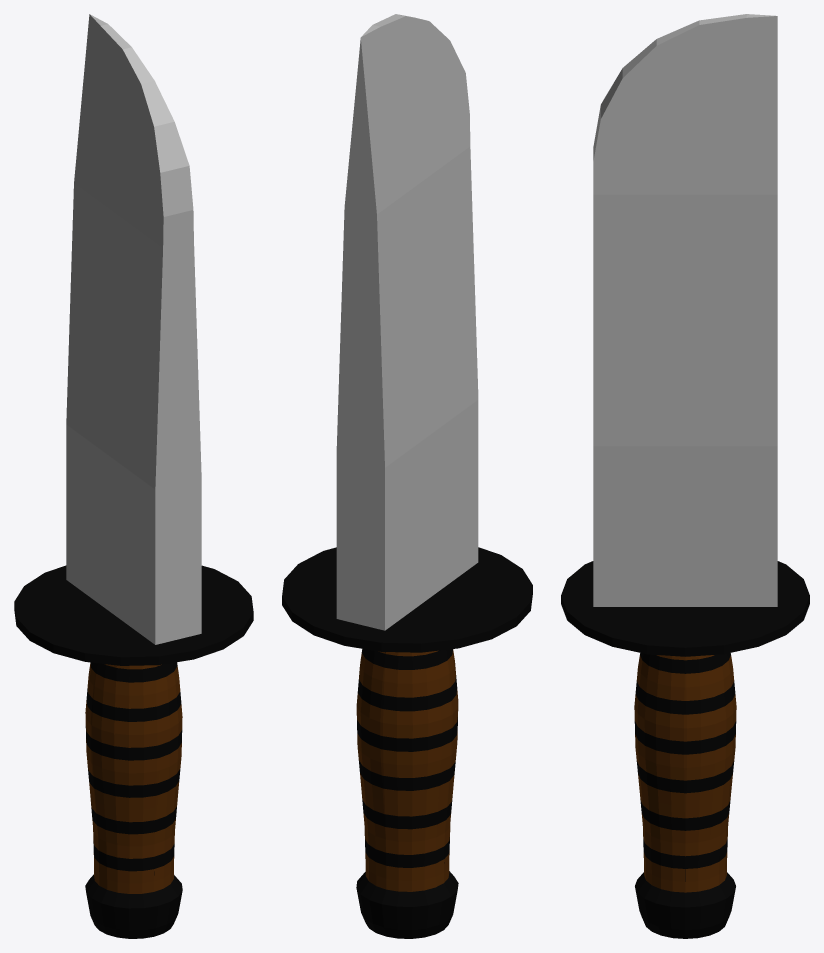
Rendered from Knife.fbx.
3 renders of one model, left to right at view 1: azimuth 30°, elevation 25°; view 2: azimuth 150°, elevation 25°; view 3: azimuth 270°, elevation 25°, orthographic. The views are drawn at different scales.
Visible parts, largest first — view 1: Blade, Handle; view 2: Blade, Handle; view 3: Blade, Handle.
Part boxes in pixels (x1=…): Blade: x1=66, y1=14, x2=201, y2=644; Handle: x1=14, y1=565, x2=253, y2=938; Blade: x1=336, y1=14, x2=478, y2=630; Handle: x1=282, y1=547, x2=532, y2=938; Blade: x1=593, y1=14, x2=777, y2=606; Handle: x1=561, y1=561, x2=809, y2=938.
Size of the model in its own units: 27 by 108 by 27.
2 materials, 1 textured.
